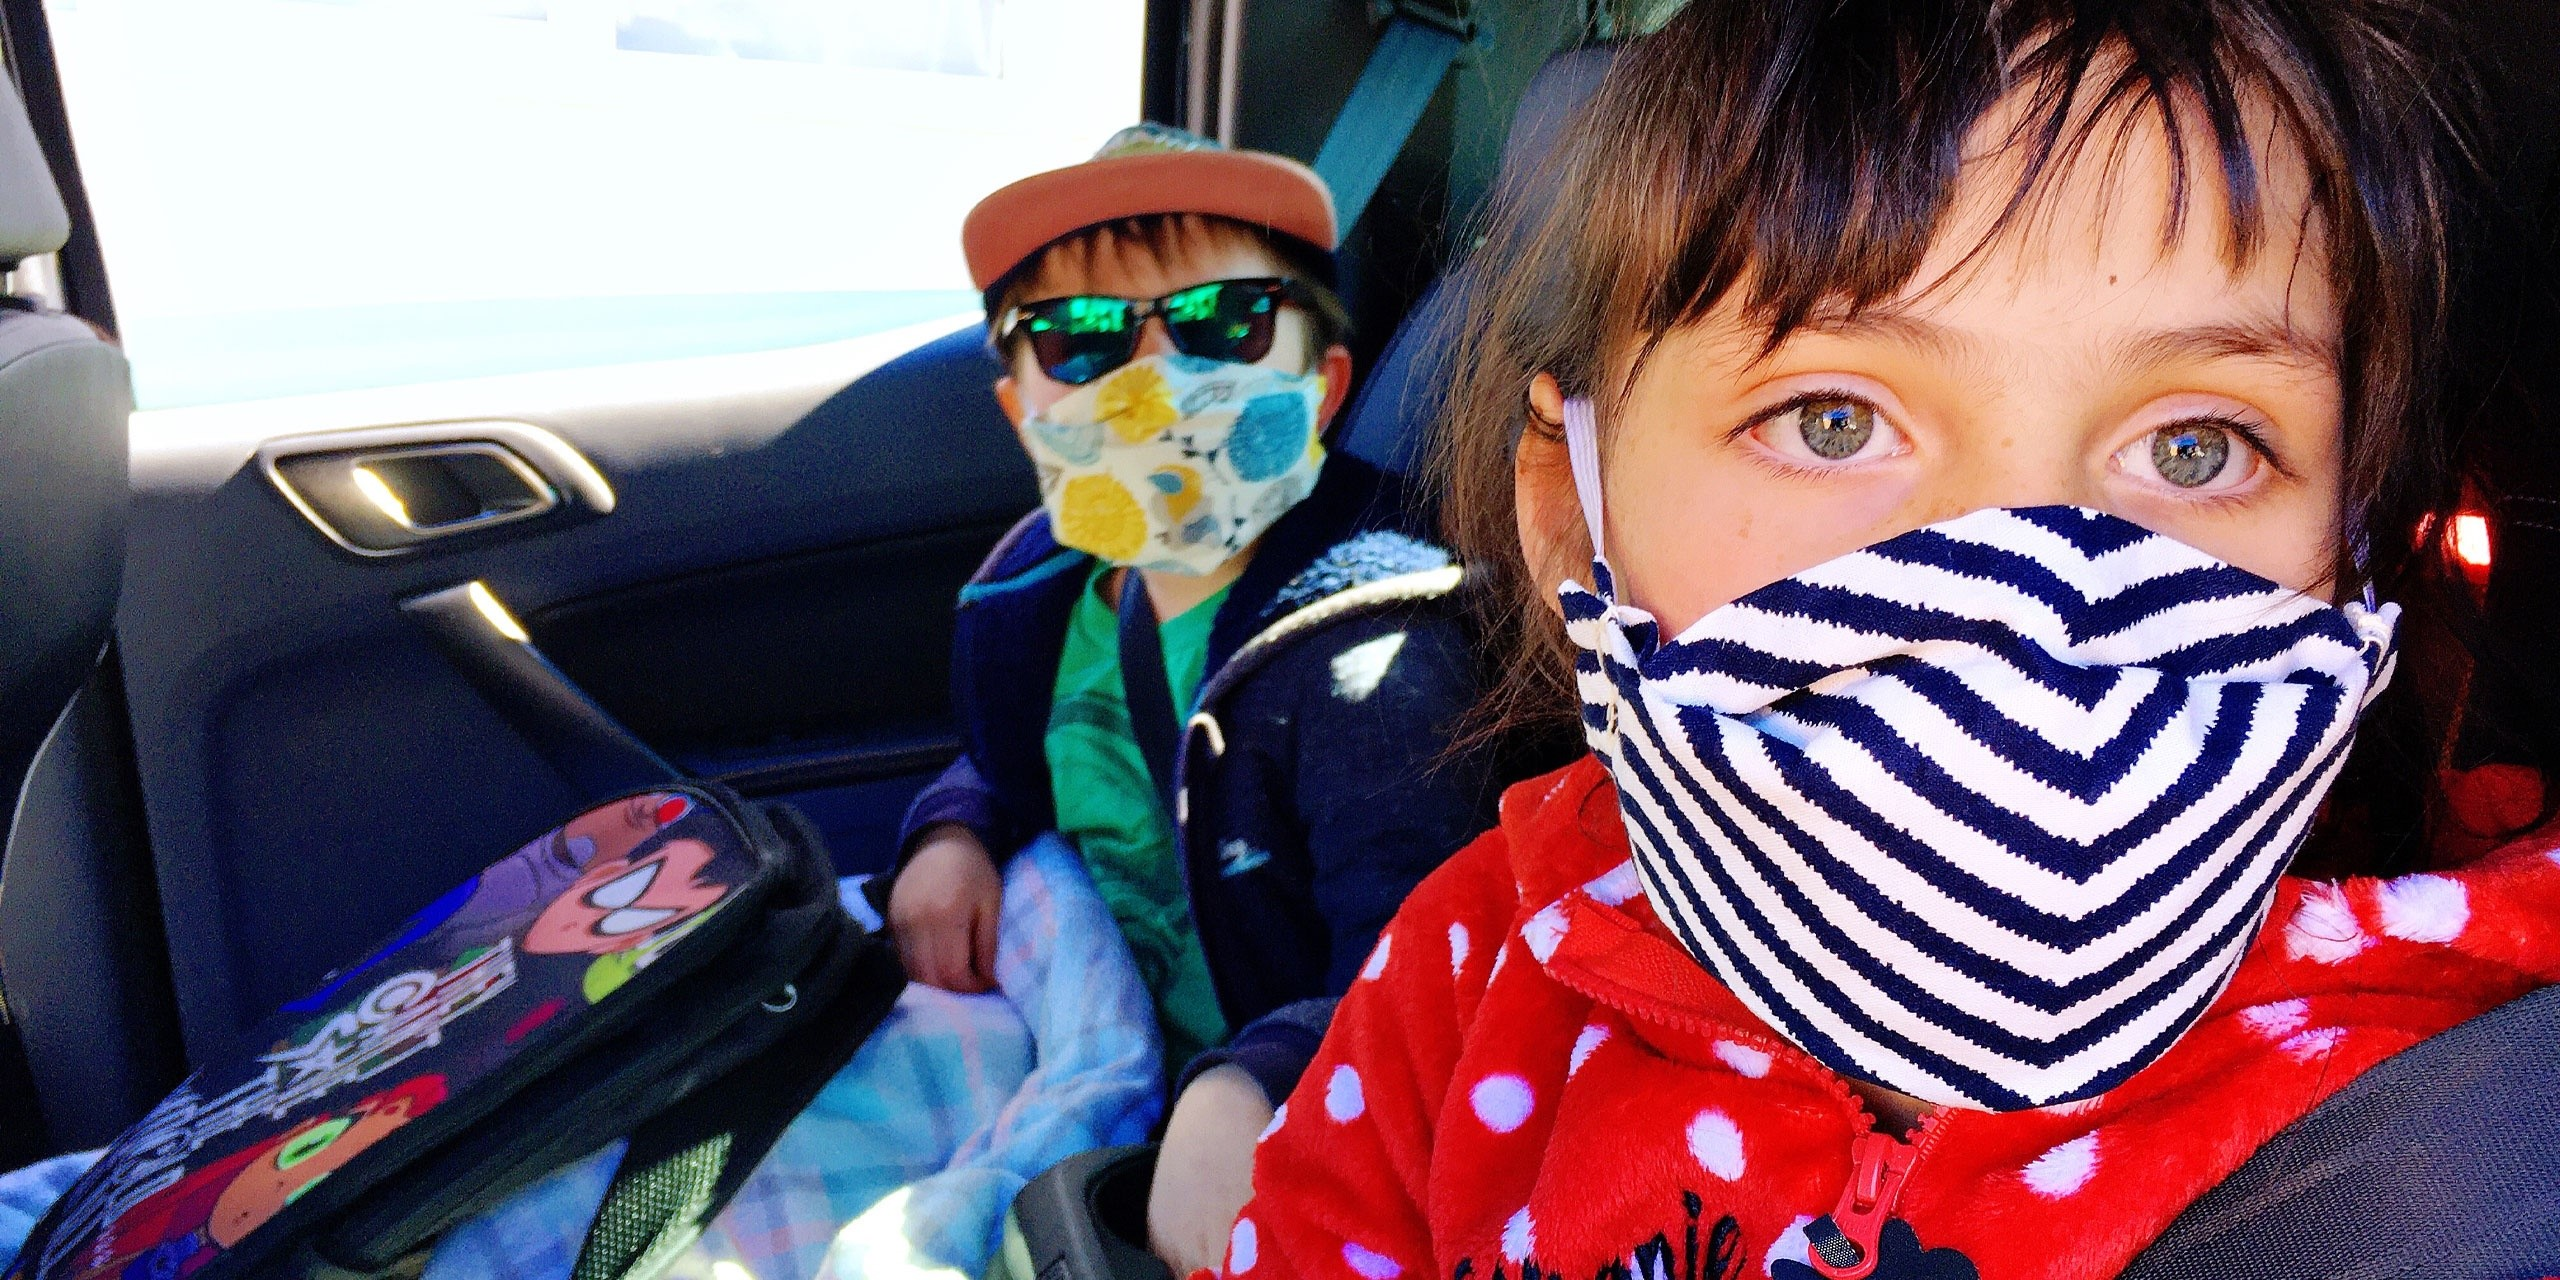face_with_mask: (1485, 13, 2433, 1163), (969, 172, 1375, 631)
